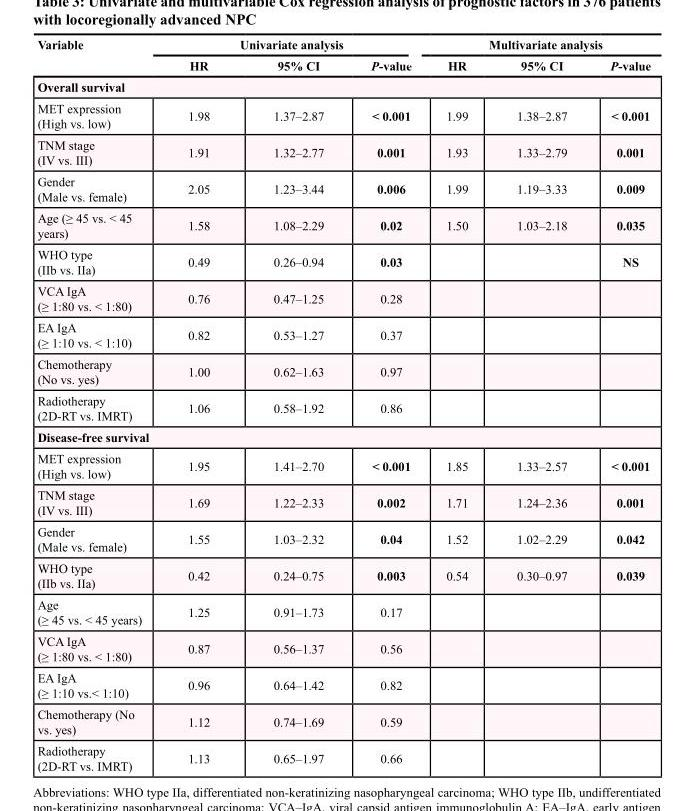table: (36, 36, 650, 772)
table column: (36, 36, 164, 772), (241, 36, 346, 772), (491, 36, 588, 772), (346, 36, 428, 772), (164, 36, 241, 772), (428, 36, 491, 772), (588, 36, 650, 772)
table column header: (36, 36, 650, 75)
table projected row header: (36, 75, 650, 97), (36, 426, 650, 447)
table row: (36, 133, 650, 170), (36, 206, 650, 243), (36, 279, 650, 316), (36, 352, 650, 389), (36, 389, 650, 426), (36, 483, 650, 520), (36, 556, 650, 593), (36, 593, 650, 630), (36, 666, 650, 703), (36, 97, 650, 133), (36, 170, 650, 206), (36, 243, 650, 279), (36, 316, 650, 352), (36, 447, 650, 483), (36, 520, 650, 556), (36, 630, 650, 666), (36, 703, 650, 739), (36, 739, 650, 772), (36, 75, 650, 97), (36, 54, 650, 75), (36, 426, 650, 447), (36, 36, 650, 54)
table spanning cell: (36, 36, 164, 75), (164, 36, 428, 54), (428, 36, 650, 54)
